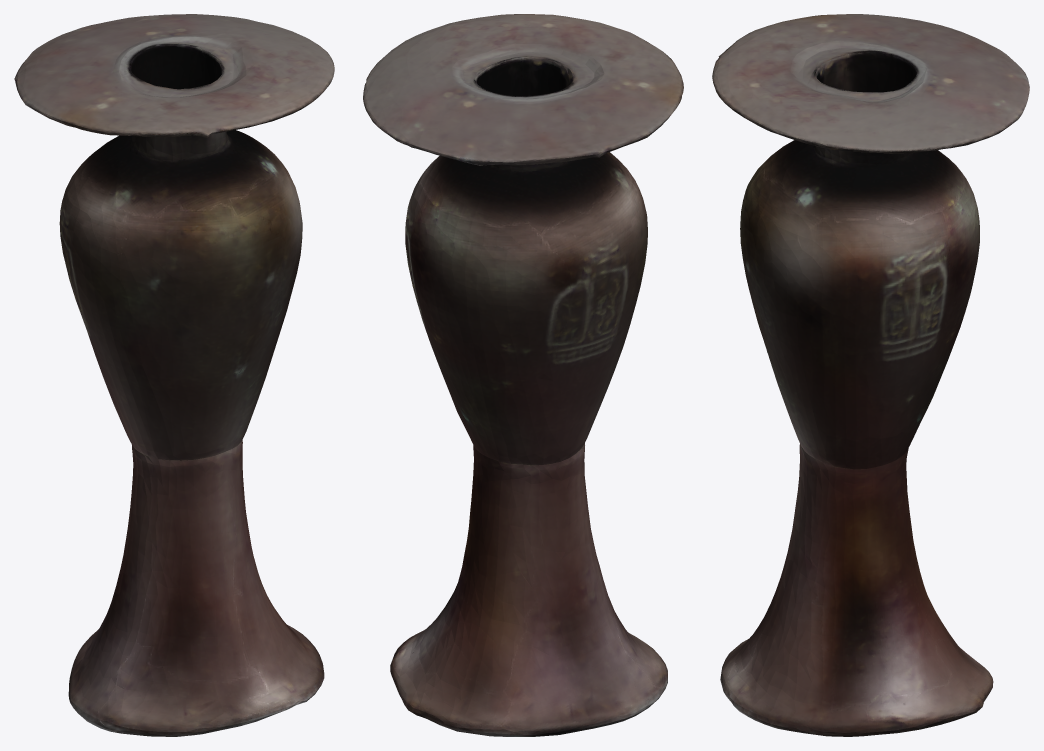
Rendered from vaso-hes.glb.
3 views of the same model, side by side, from view 1: azimuth 30°, elevation 25°; view 2: azimuth 150°, elevation 25°; view 3: azimuth 270°, elevation 25° (orthographic).
Parts seen in each view (by area): view 1: world; view 2: world; view 3: world.
Part boxes in pixels (x1,y1,x2,y2): world: (14, 14, 334, 736); world: (363, 14, 683, 736); world: (712, 14, 1029, 736).
Bounding box in the file's own units: 0.3758 × 0.8046 × 0.372.
1 material, 1 textured.
